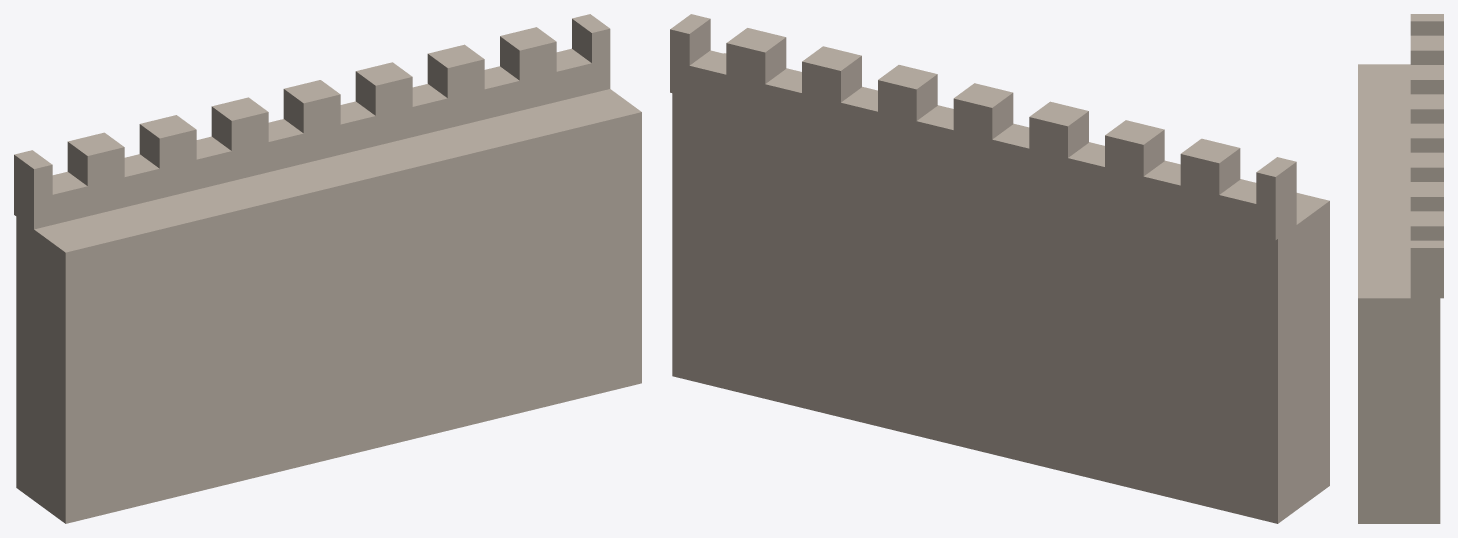
Rendered from SPW_Medieval_Castle_Wall_02.glb.
3 renders of one model, left to right at view 1: azimuth 30°, elevation 25°; view 2: azimuth 150°, elevation 25°; view 3: azimuth 270°, elevation 25°, orthographic. The views are drawn at different scales.
Parts seen in each view (by area): view 1: SPW_Medieval_Castle_Wall_02; view 2: SPW_Medieval_Castle_Wall_02; view 3: SPW_Medieval_Castle_Wall_02.
Part boxes in pixels (left/top/right/bottom): SPW_Medieval_Castle_Wall_02: left=14, top=14, right=641, bottom=523; SPW_Medieval_Castle_Wall_02: left=670, top=14, right=1329, bottom=523; SPW_Medieval_Castle_Wall_02: left=1358, top=14, right=1443, bottom=523.
Bounding box in the file's own units: 10 × 5.5 × 1.55.
1 material, 1 textured.
